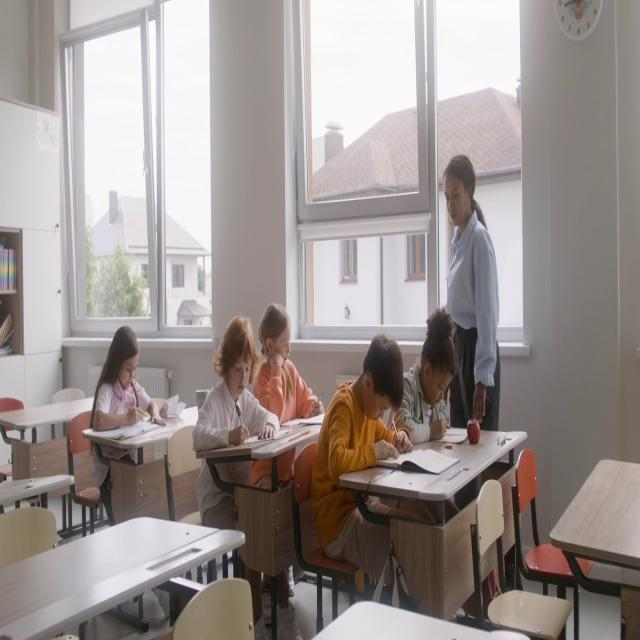listening: (253, 302, 322, 482)
writing: (193, 316, 287, 640), (313, 335, 422, 608), (90, 327, 169, 552), (396, 308, 456, 446)
